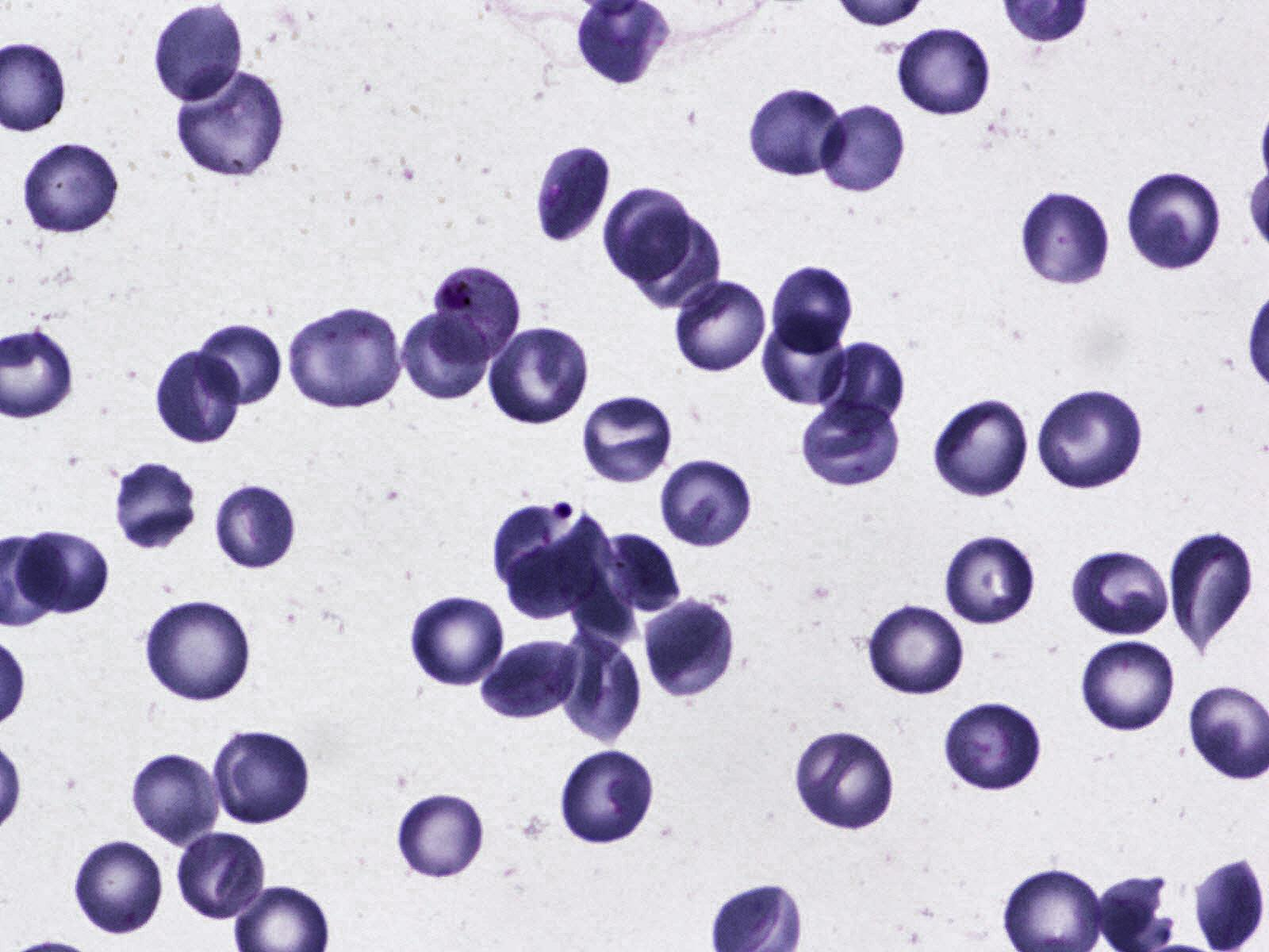Infected: (427, 266, 521, 366)
Uninfected: (292, 306, 402, 413), (1034, 386, 1147, 490), (179, 71, 280, 178), (485, 324, 590, 425), (1125, 167, 1225, 272), (799, 731, 901, 832), (405, 589, 508, 689), (69, 834, 167, 939), (210, 727, 312, 827), (930, 398, 1029, 501), (1076, 636, 1182, 732), (1018, 187, 1113, 294), (642, 598, 741, 699), (145, 603, 248, 700), (558, 747, 658, 846), (21, 141, 123, 238), (799, 401, 907, 492), (507, 516, 598, 623), (559, 620, 637, 744), (746, 84, 847, 178), (942, 703, 1042, 796), (677, 276, 768, 377), (631, 212, 722, 312), (606, 184, 695, 286), (578, 392, 673, 486), (399, 305, 494, 399), (895, 27, 992, 119), (1073, 551, 1175, 638), (132, 754, 223, 851), (156, 347, 244, 446), (813, 344, 909, 434), (657, 462, 754, 551), (767, 262, 854, 361), (817, 103, 909, 196), (868, 606, 964, 694), (534, 141, 615, 244), (945, 537, 1037, 627), (193, 320, 282, 413), (154, 6, 242, 100), (16, 530, 110, 618), (1171, 536, 1248, 643), (477, 639, 581, 717), (765, 312, 849, 408), (178, 830, 265, 922), (398, 791, 485, 882), (110, 461, 197, 550), (215, 481, 297, 570), (596, 532, 686, 612), (494, 506, 580, 587), (1197, 863, 1263, 952)
